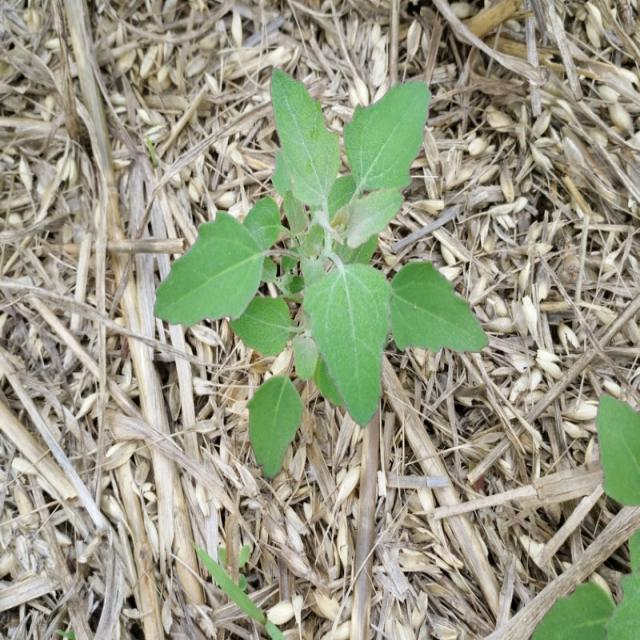ca: (157, 71, 488, 471)
